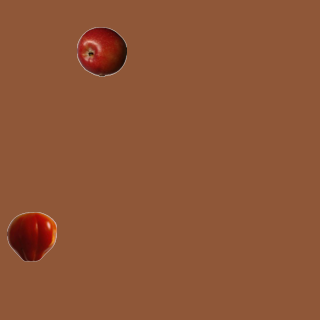Apple Braeburn: (76, 26, 126, 76)
Tomato 1: (6, 211, 56, 261)
